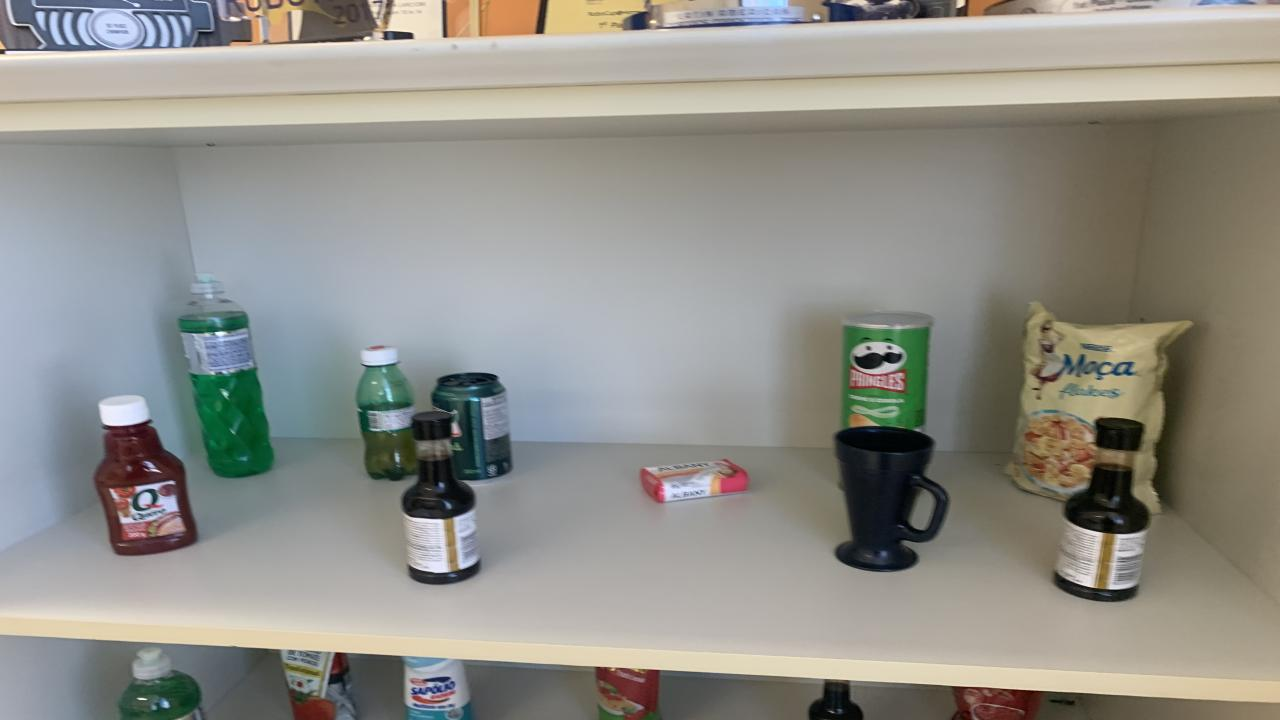Cleaner-Cleanup_Items: (402, 656, 472, 720)
Detergent-Cleanup_Items: (178, 276, 272, 476), (118, 647, 202, 720)
English_Sauce-Pantry_Items: (1055, 418, 1150, 602), (402, 411, 480, 585), (808, 681, 862, 720)
Flakes-Snacks: (1005, 302, 1192, 514)
Guarana-Drinks: (355, 347, 415, 480)
Guarana_Can-Drinks: (432, 373, 512, 480)
Ketchup-Pantry_Items: (95, 396, 198, 555)
Pringles-Snacks: (840, 311, 932, 431)
Soap-Cleanup_Items: (640, 459, 750, 502)
Tomato_Sauce-Pantry_Items: (280, 651, 355, 720), (595, 668, 660, 720), (952, 686, 1042, 720)
